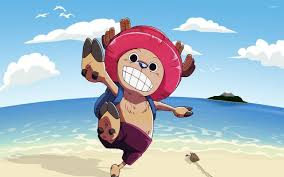chopper: (80, 17, 198, 177)
